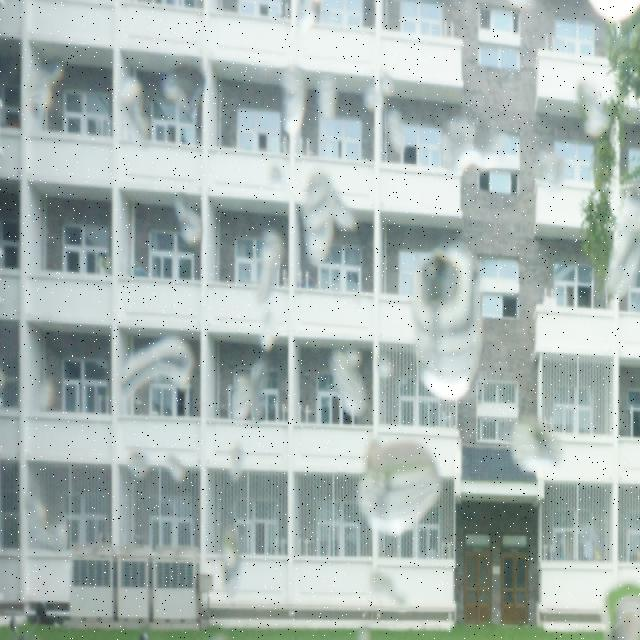raindrop: (406, 252, 500, 400), (336, 443, 440, 556), (113, 330, 200, 394), (290, 174, 352, 256), (436, 104, 494, 191), (360, 564, 428, 638), (26, 52, 94, 126), (368, 63, 417, 164), (29, 478, 72, 568), (160, 179, 208, 255), (320, 346, 365, 426), (508, 424, 566, 486), (603, 202, 640, 298), (596, 563, 640, 640), (264, 61, 300, 148), (111, 86, 157, 150), (244, 306, 282, 371), (570, 70, 609, 128), (158, 64, 194, 125), (222, 364, 257, 426), (220, 520, 253, 582), (17, 378, 62, 423), (519, 150, 563, 196), (318, 75, 346, 141), (253, 234, 281, 292), (224, 444, 256, 491), (122, 448, 154, 493), (165, 446, 188, 499), (375, 350, 400, 388)
